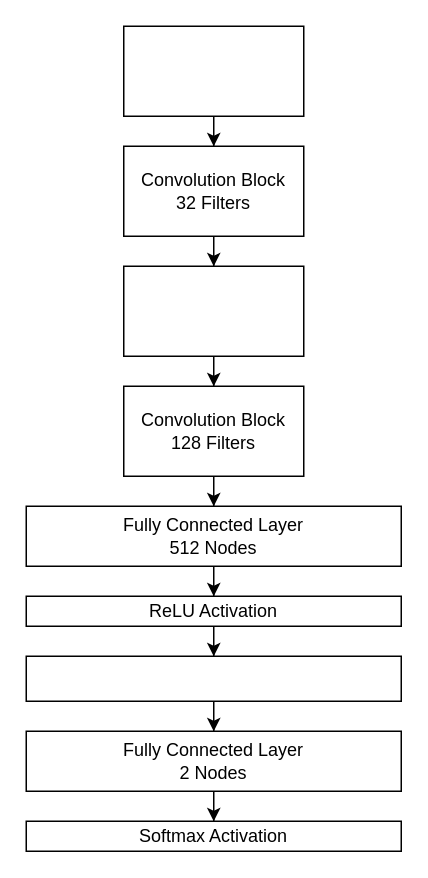
Image size: 428x878. Some labels were removed from this diagram. Here are the shapes that lost their labels. From the top down, the centre of each, then its label:
point 213,70: Input image [101x101x3]
point 213,310: Convolution Block 64 Filters
point 213,678: Dropout (Rate: 0.5)
